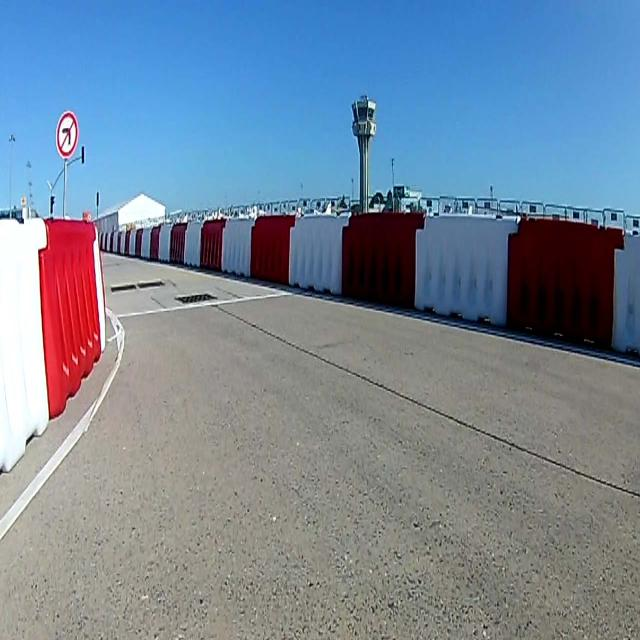soladonulmez: (56, 113, 78, 154)
